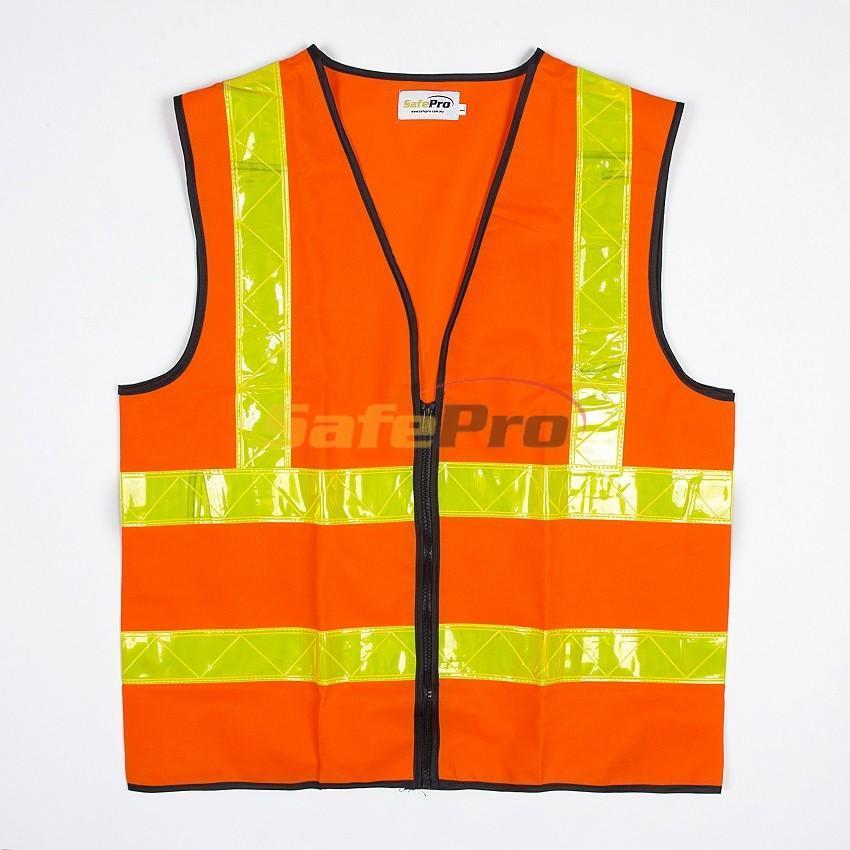vest: (113, 29, 738, 794)
